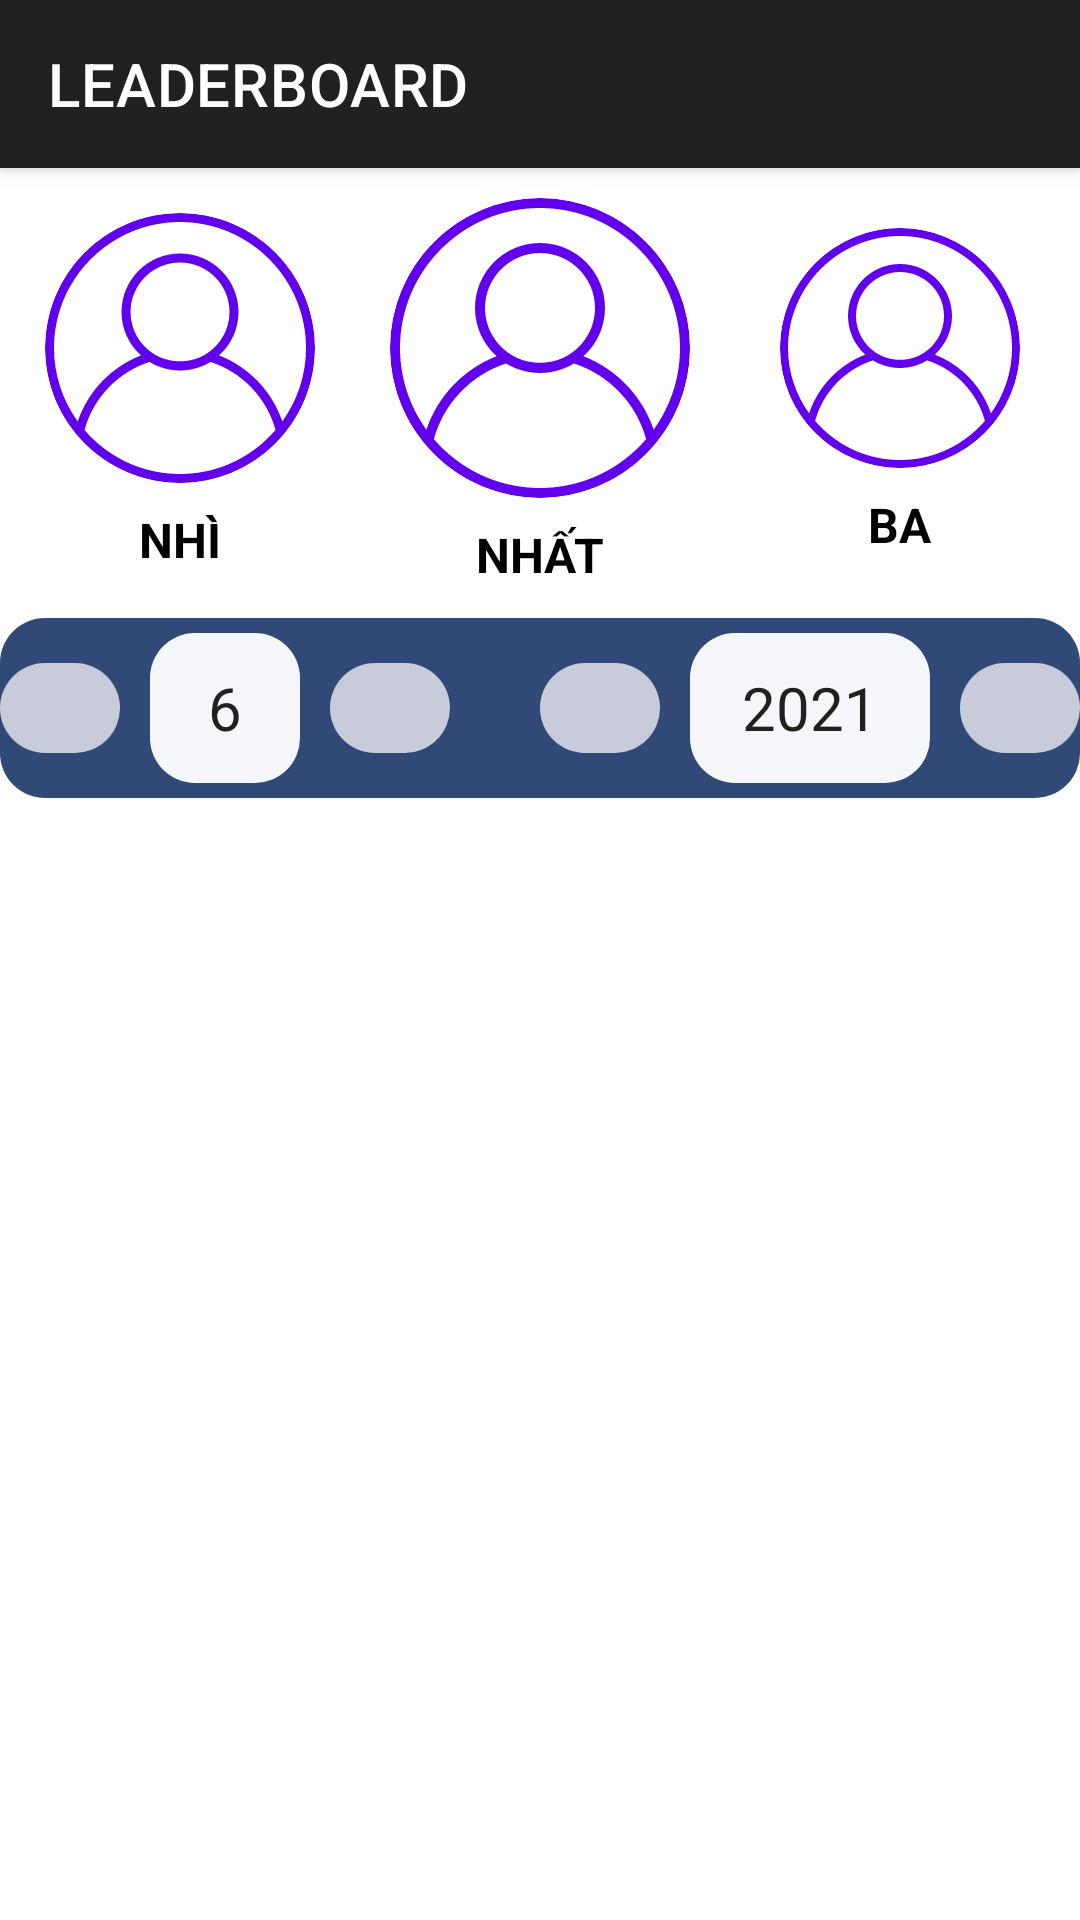

Icon click points for this 1080*1920 phone screenshot, format (x=x, y=y):
user: (x=540, y=348), (x=180, y=348), (x=900, y=348)
